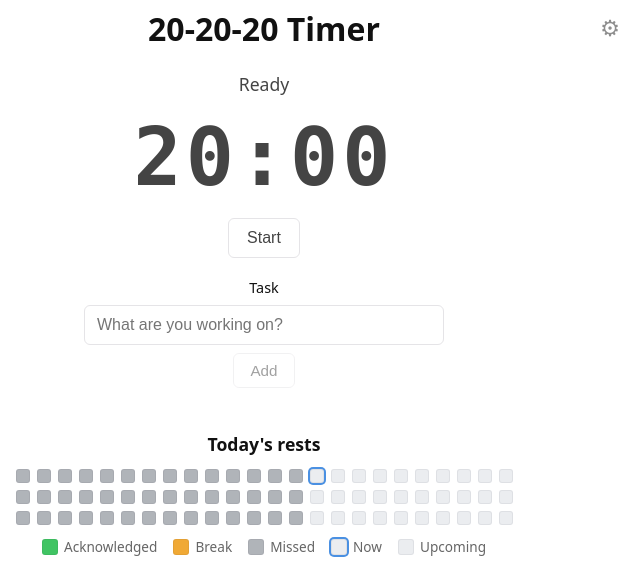
20-20-20 Timer › cancel returns to idle
Click the button "Start": (264, 238) x1=228 y1=218 x2=300 y2=258
Wait 10000 ms
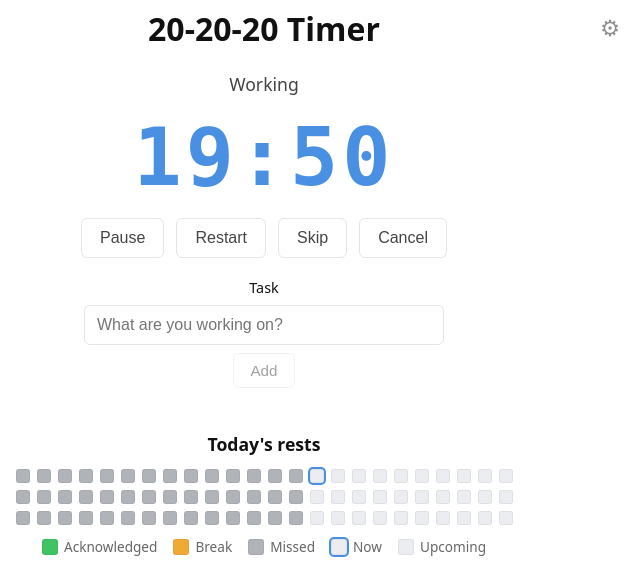
Click the button "Cancel": (403, 238) x1=359 y1=218 x2=447 y2=258
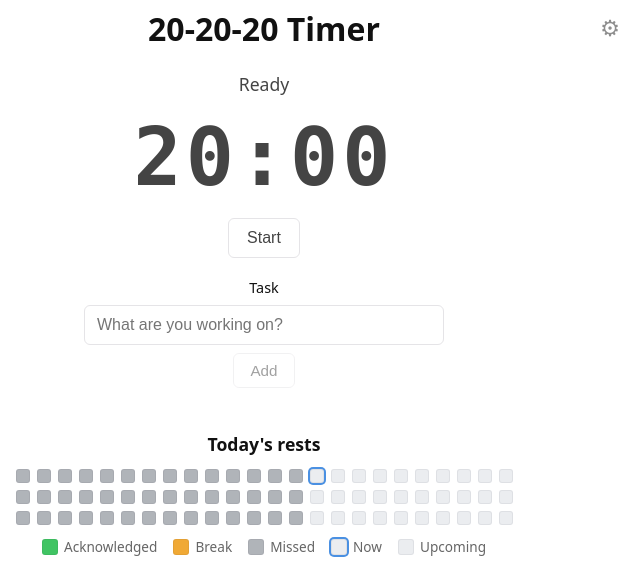
Expected: the text "Ready" is shown, x1=239 y1=72 x2=289 y2=98
Expected: the text named "time remaining" reads "20:00", x1=134 y1=111 x2=394 y2=204
